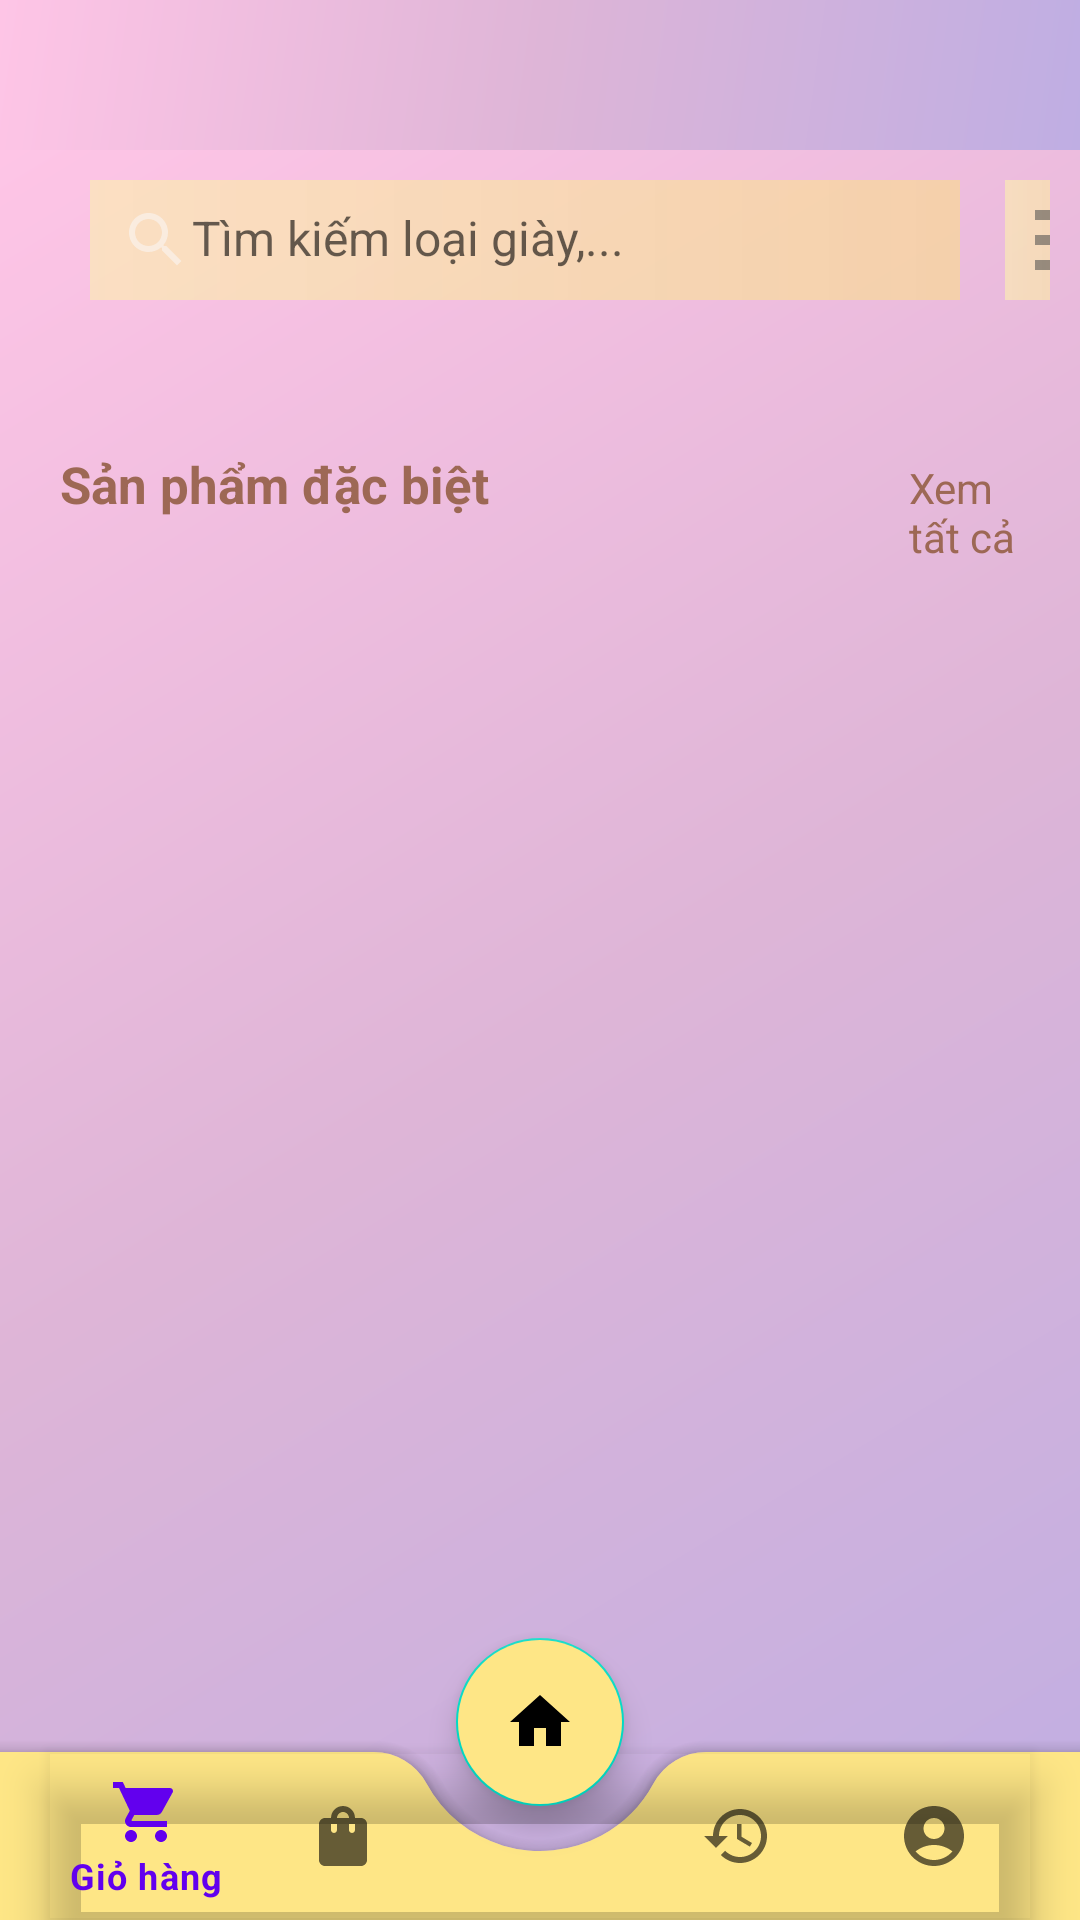

Point at icon controls on the screen. Image size 1080x1920, points as [x,y].
trangchu: [540,1752]
